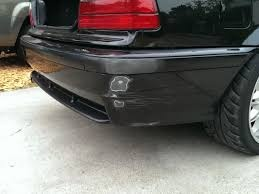Scratch: (73, 29, 141, 48), (109, 76, 134, 109)
